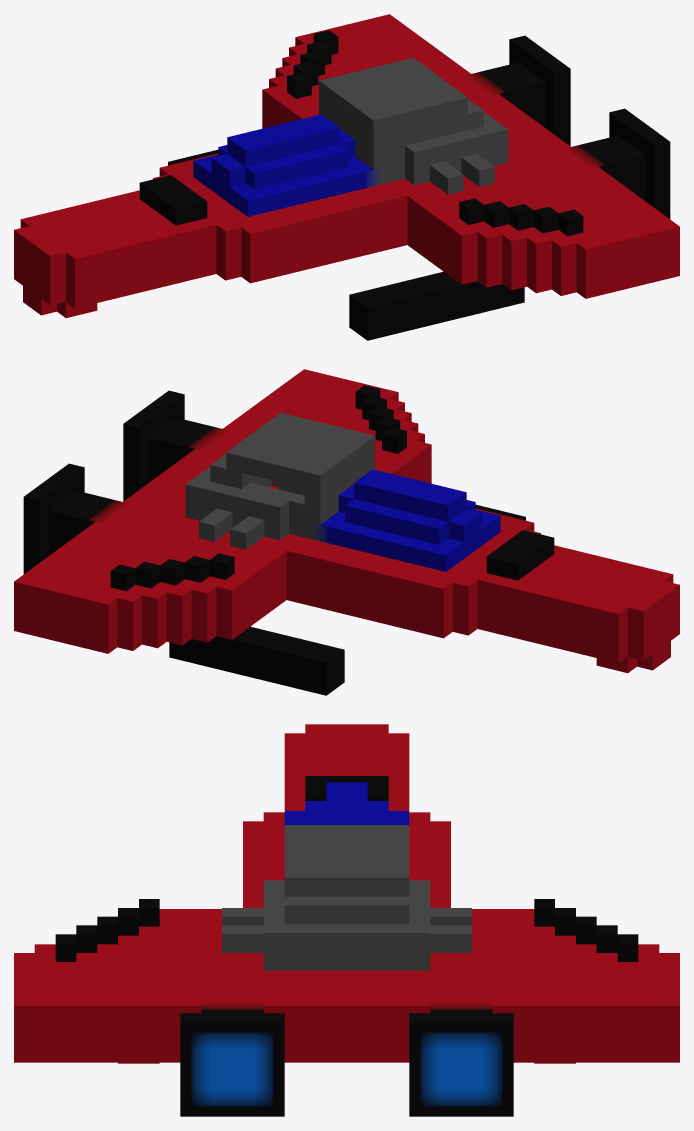
File: PirateShip.fbx
The picture shows the model from 3 angles, top to bottom: view 1: azimuth 30°, elevation 25°; view 2: azimuth 150°, elevation 25°; view 3: azimuth 270°, elevation 25°; orthographic projection. The views are drawn at different scales.
Parts seen in each view (by area): view 1: Matrix; view 2: Matrix; view 3: Matrix.
Part boxes in pixels (x1,y1,x2,y2): Matrix: [14, 14, 679, 340]; Matrix: [14, 369, 679, 695]; Matrix: [14, 724, 679, 1116].
Bounding box in the file's own units: 36 × 9 × 32.
1 material, 1 textured.
